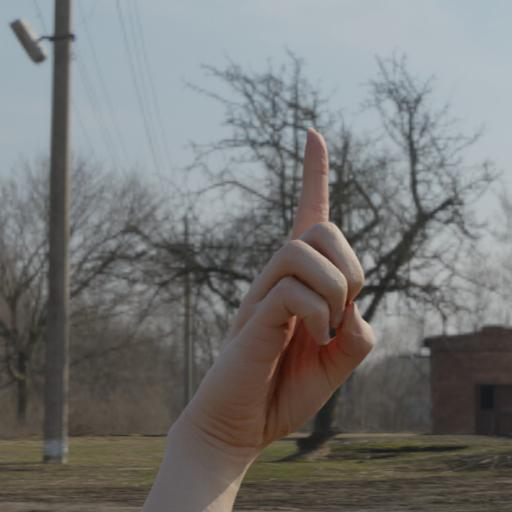D: (158, 120, 391, 456)
